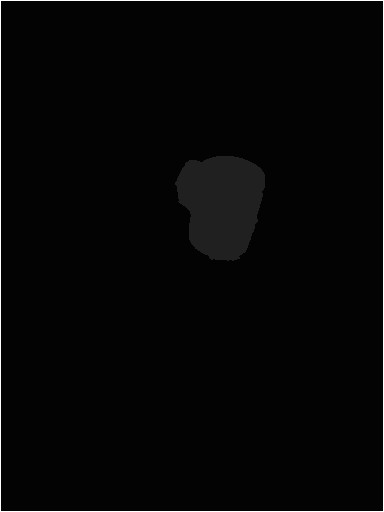cup: (173, 154, 268, 260)
